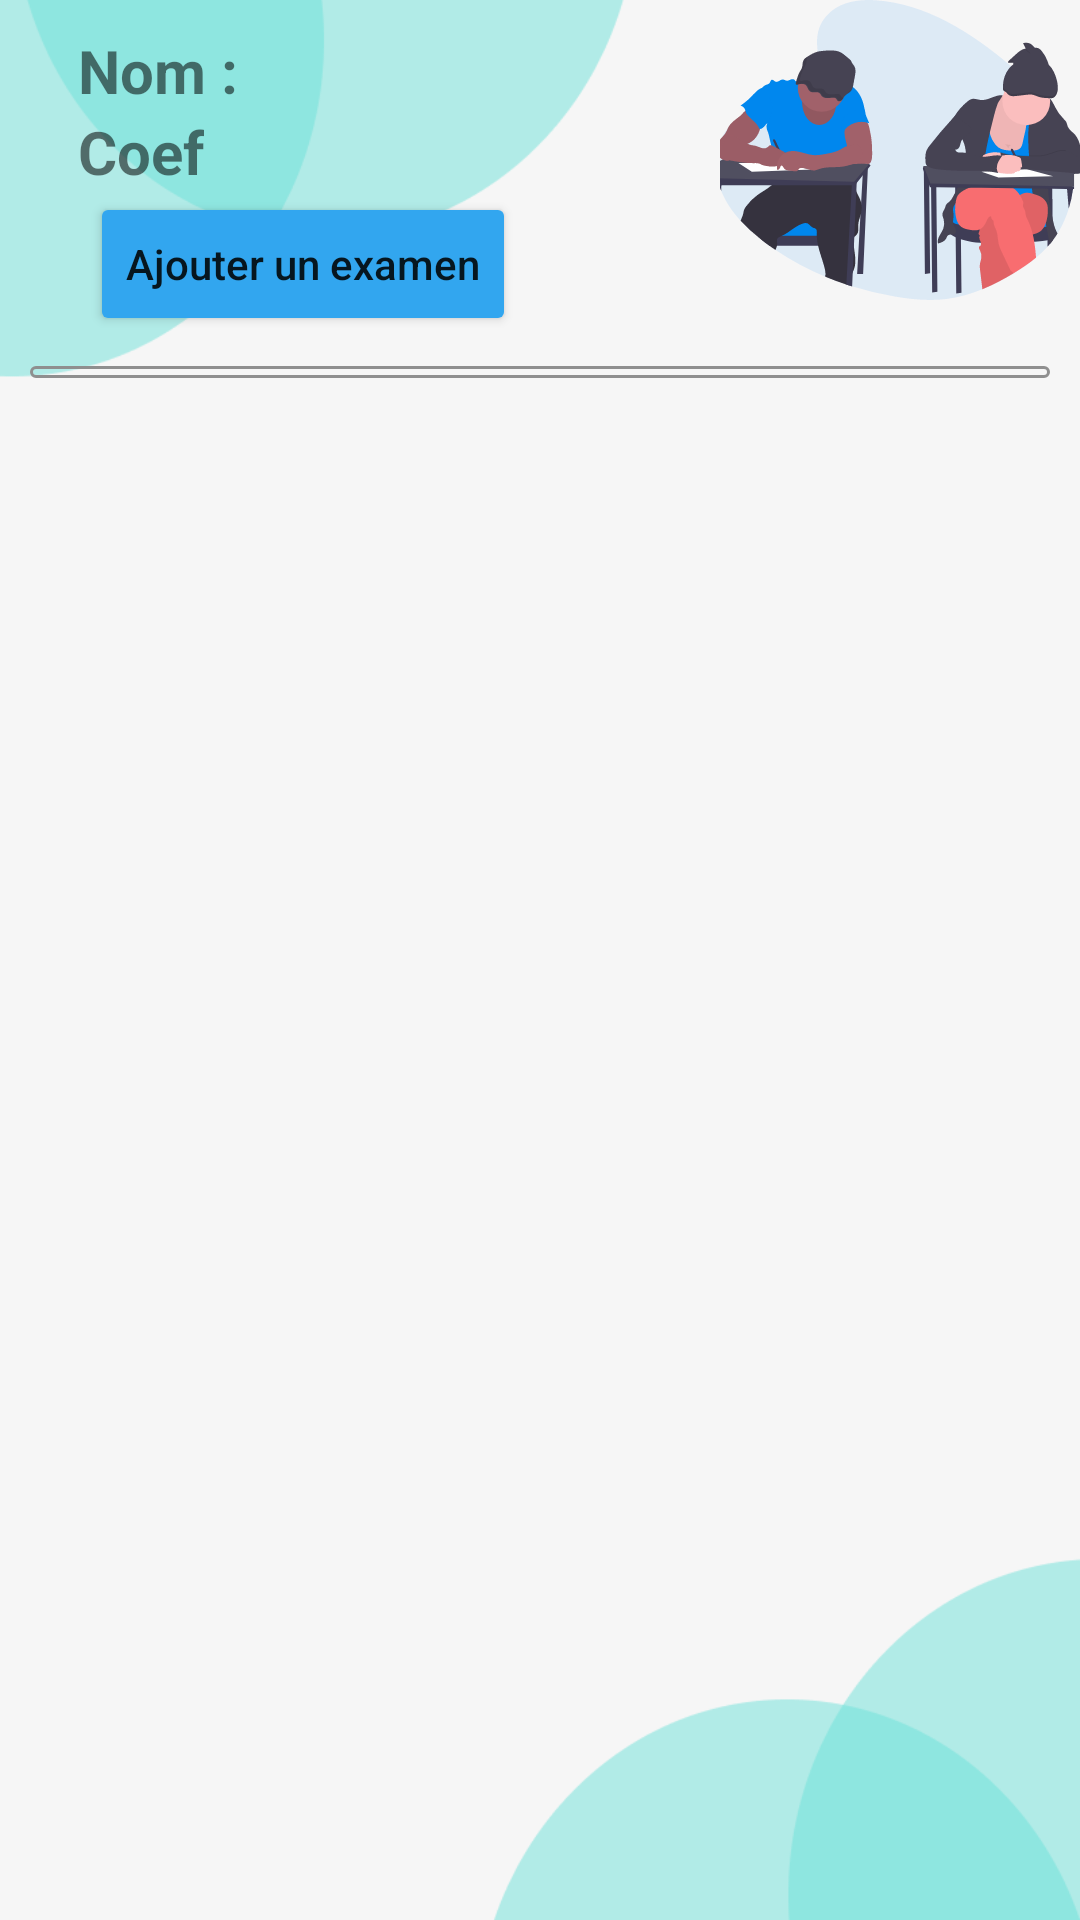

Point at icon controls on the screen. Image size 1080w x 1920h, points as (x,y).
undraw exams ow: (900,150)
